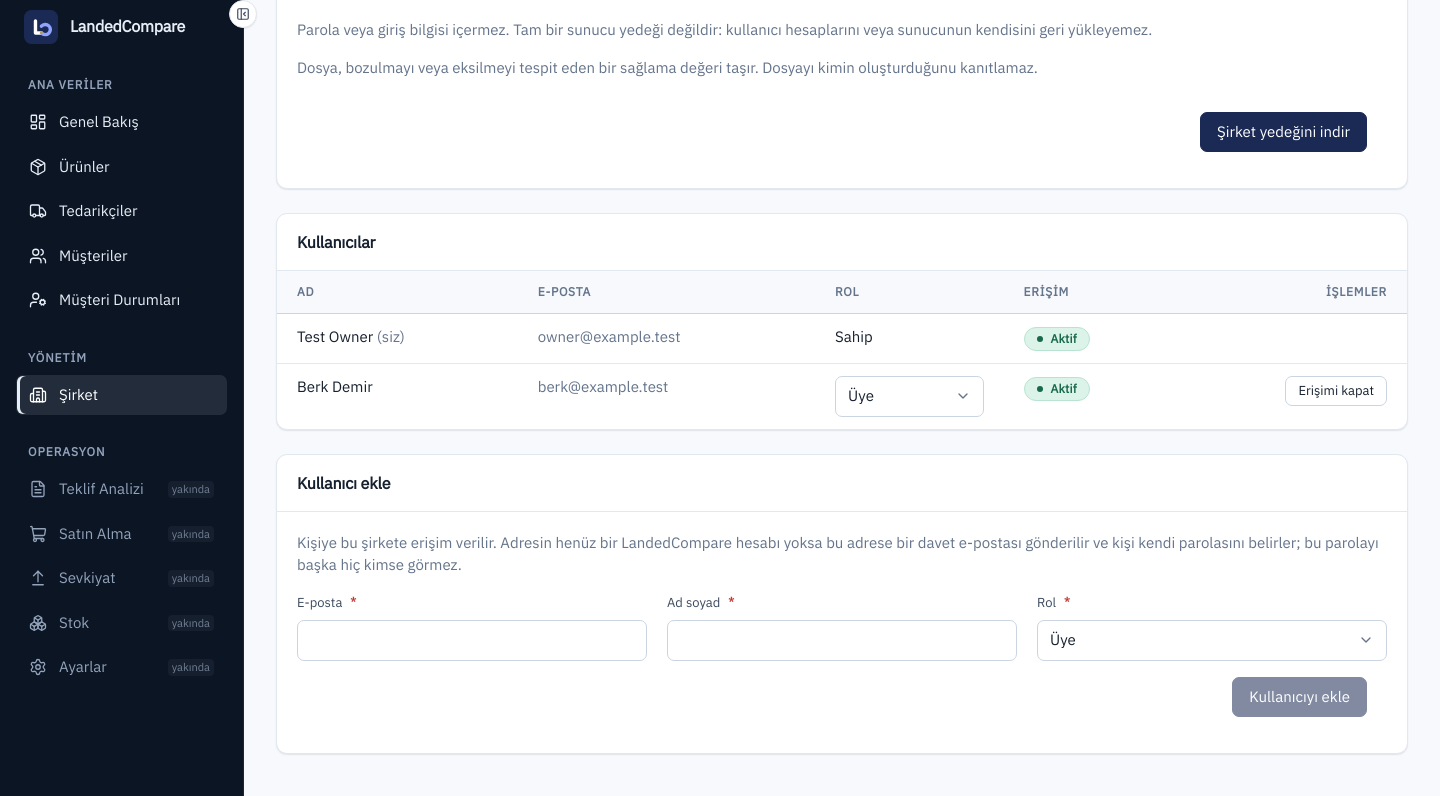
Test case: the company screen for an OWNER › disables a colleague only after confirmation, through the server, and shows the new state
(page scrolled)
Expected: the navigation bar named "Ana menü" is shown, [16,68,227,776]
Click the button "Erişimi kapat": click(1336, 391) [1285,376,1387,406]
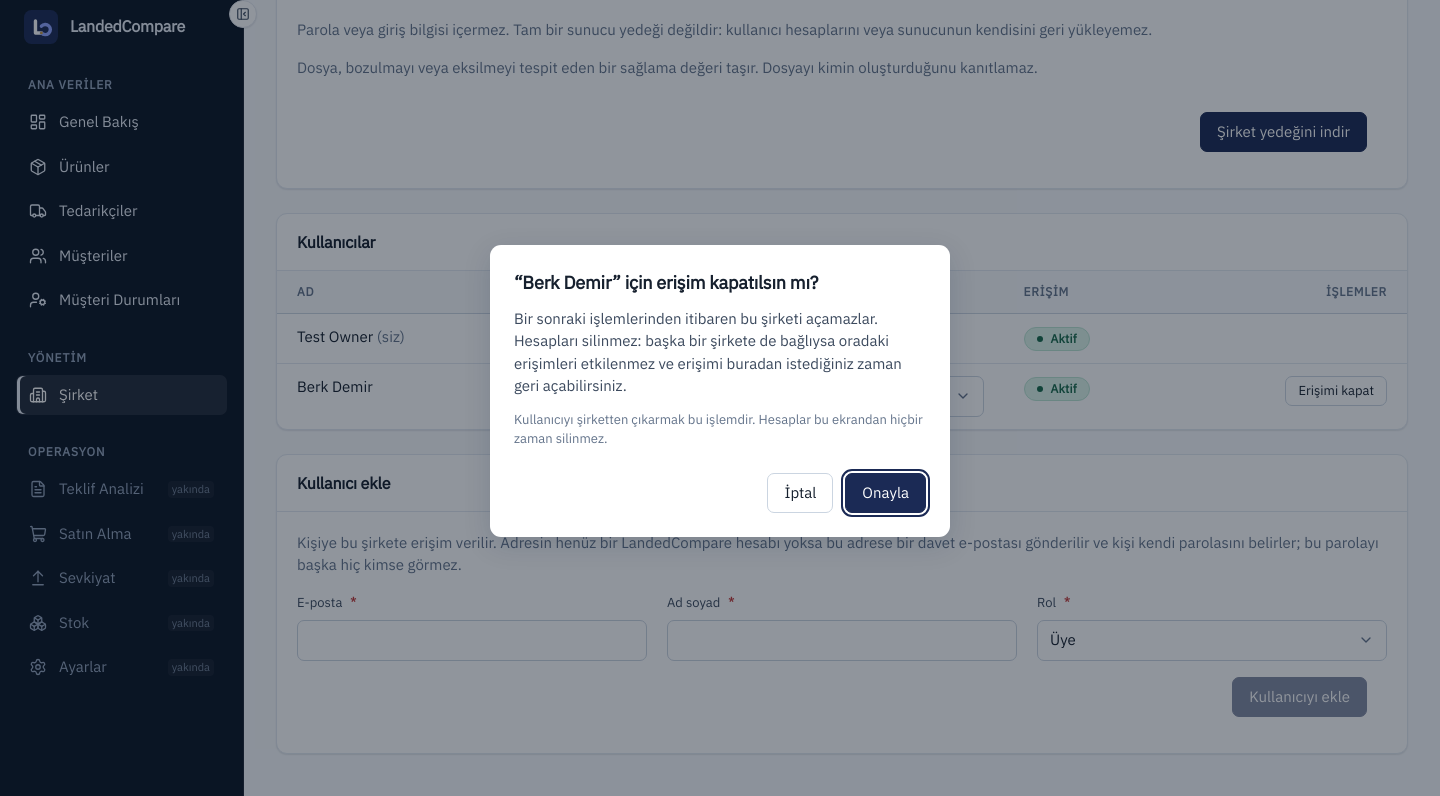
Expected: the text "Hesapları silinmez" is shown, [514,309,902,395]
Click the button "Onayla": click(886, 493) [845,473,926,513]
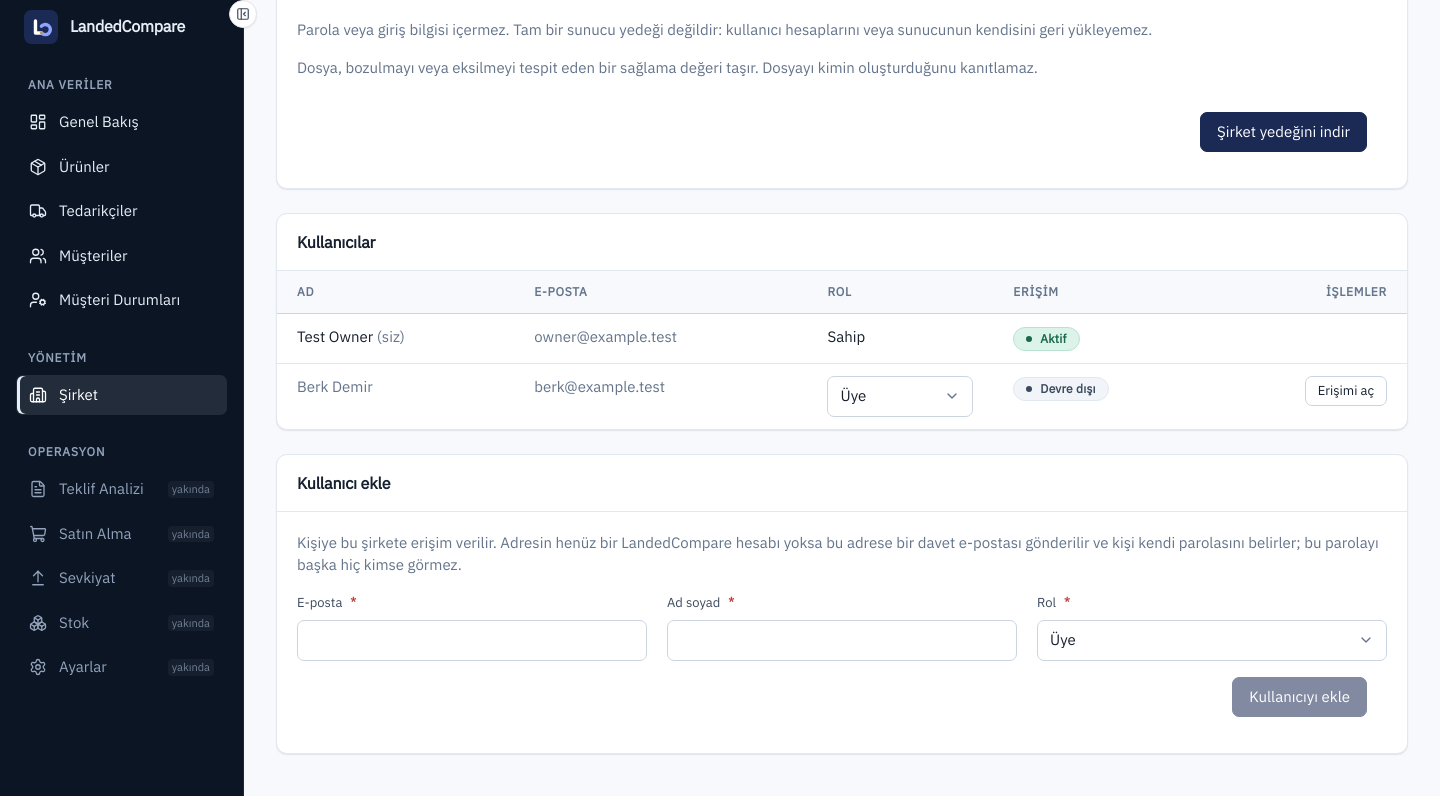
Expected: the text "Devre dışı" is shown, [1013,377,1109,401]
